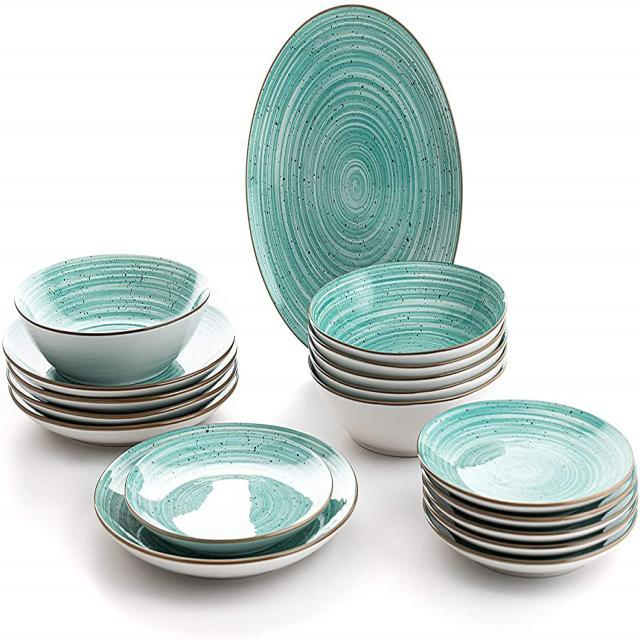ceramic plate: (1, 182, 284, 427), (53, 408, 374, 604), (415, 363, 640, 574)
